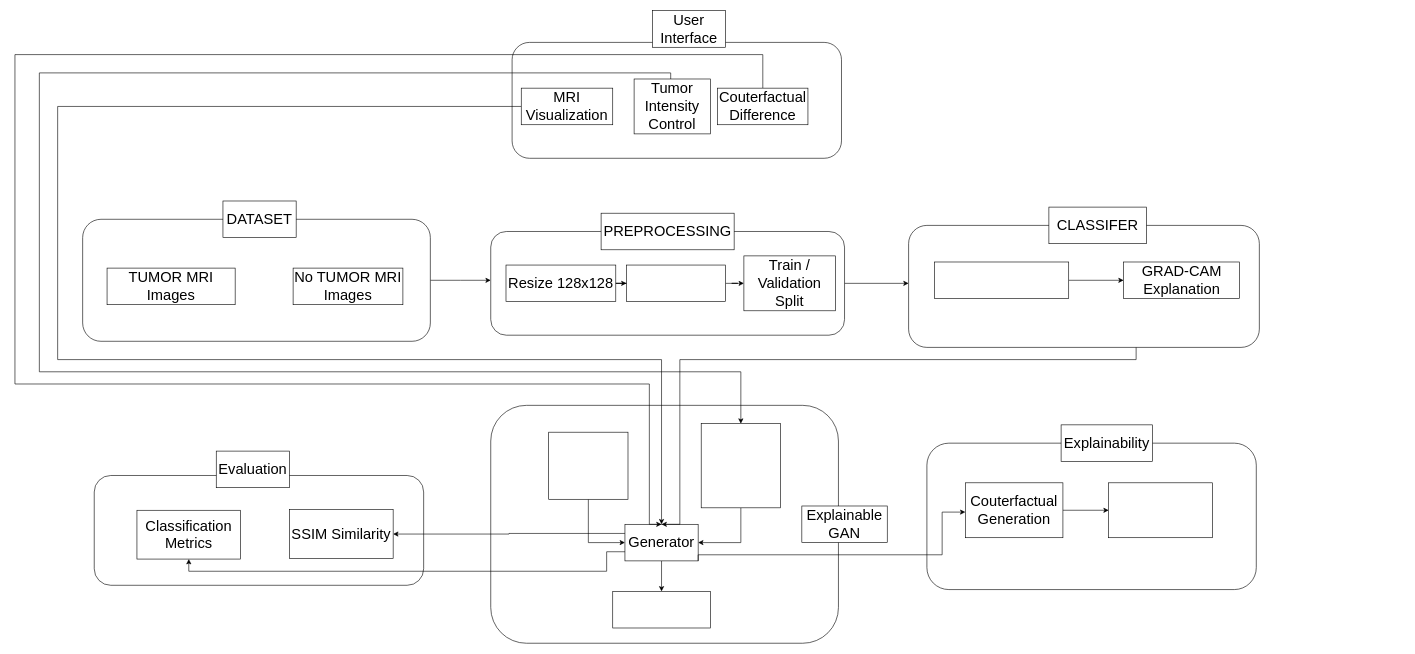
Image size: 1415x654. Some labels were removed from this diagram. Each missing label, with the box of its shape:
CNN Tumor Classifier: (934, 261, 1069, 299)
Differennce map: (1108, 482, 1212, 538)
Discriminator: (612, 591, 710, 628)
Normalization: (626, 264, 726, 302)
Pathology Vector (Tumor Features): (701, 423, 780, 508)
Structure Vector (Anatomy): (548, 432, 628, 499)
